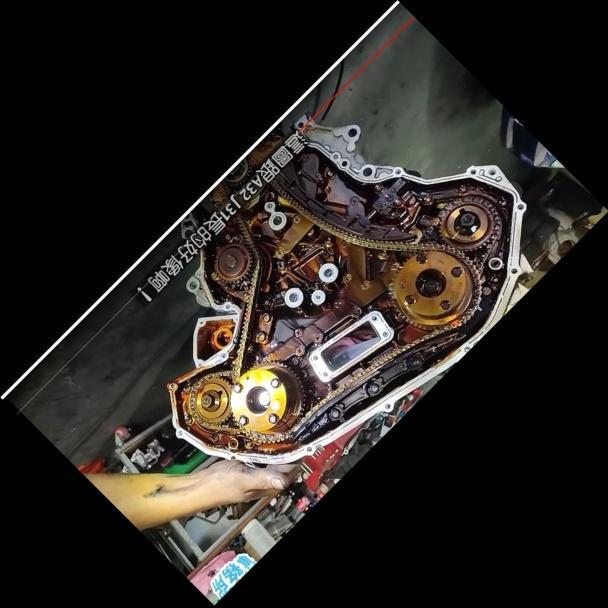hole: (319, 264, 335, 280), (283, 288, 299, 304), (266, 212, 282, 228), (162, 377, 178, 392), (301, 442, 315, 456), (327, 149, 341, 163), (513, 199, 527, 212), (485, 165, 498, 178), (466, 165, 477, 177), (507, 264, 518, 276), (172, 426, 183, 437), (312, 290, 323, 301), (380, 401, 390, 412), (216, 350, 226, 360), (221, 301, 231, 311), (195, 316, 205, 326), (193, 358, 203, 368), (264, 200, 274, 210), (391, 166, 401, 175)
